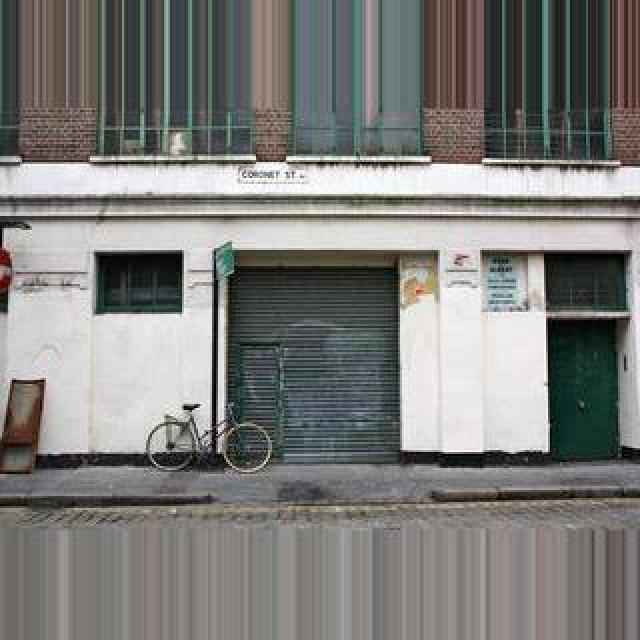Person: (146, 401, 272, 473)
